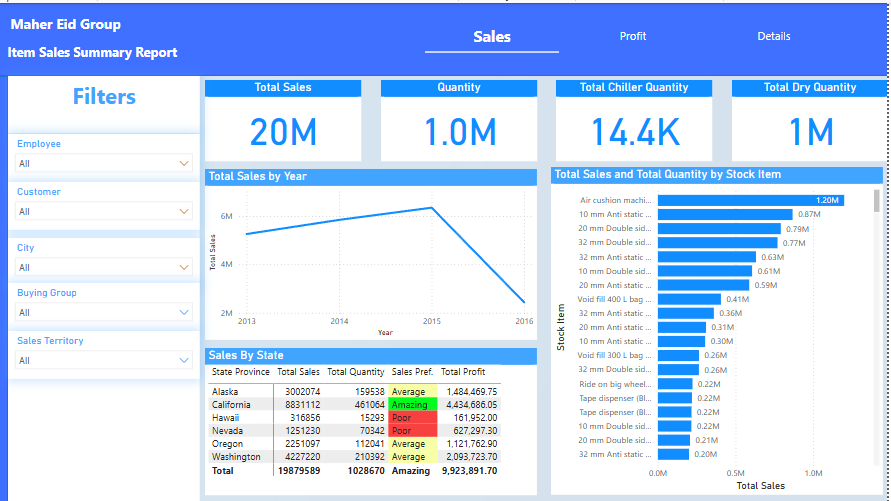

This screenshot's page, from the dashboard's own definition file:
{"tool":"powerbi","page":{"name":"Sales","canvas":[1280,720],"ordinal":0},"visuals":[{"type":"shape","box":[0,0,1280.2,105.1],"z":0},{"type":"shape","box":[0,105.1,13,614.9],"z":1000},{"type":"shape","box":[13,105.1,276.5,614.9],"z":2000},{"type":"textbox","box":[7.2,53.3,262.1,36],"z":3000},{"type":"card","title":"Total Sales","fields":{"Values":["Sum(FactSale.Total Excluding Tax)"]},"box":[296.6,110.7,224.6,116.6],"z":4000},{"type":"card","title":"Quantity","fields":{"Values":["Sum(FactSale.Quantity)"]},"box":[549.6,110.7,224.6,116.6],"z":5000},{"type":"card","title":"Total Chiller Quantity","fields":{"Values":["Sum(FactSale.Total Chiller Items)"]},"box":[802.6,110.7,224.6,116.6],"z":6000},{"type":"card","title":"Total Dry Quantity","fields":{"Values":["Sum(FactSale.Total Dry Items)"]},"box":[1055.4,110.7,224.6,116.6],"z":7000},{"type":"shape","box":[0,5.8,191.5,47.5],"z":8000},{"type":"textbox","box":[13,105.1,276.5,82.1],"z":9000},{"type":"lineChart","fields":{"Category":["DimDate.Date.Variation.Date Hierarchy.Year","DimDate.Date.Variation.Date Hierarchy.Quarter","DimDate.Date.Variation.Date Hierarchy.Month","DimDate.Date.Variation.Date Hierarchy.Day"],"Y":["Sum(FactSale.Total Excluding Tax)"]},"box":[296.6,239,478.1,246.2],"z":10000},{"type":"barChart","fields":{"Y":["Sum(FactSale.Total Excluding Tax)"],"Category":["DimStockItem.Stock Item"]},"box":[794.9,236.2,478.1,472.3],"z":11000},{"type":"pivotTable","title":"Sales By State","fields":{"Values":["Sum(FactSale.Total Excluding Tax)","Sum(FactSale.Quantity)","FactSale.Sales Pref.","Sum(FactSale.Profit)"],"Rows":["DimCity.State Province"]},"box":[296.6,496.8,478.1,211.7],"z":12000},{"type":"slicer","fields":{"Values":["DimEmployee.Employee"]},"box":[13,188.6,276.5,69.1],"z":13000},{"type":"slicer","fields":{"Values":["DimCustomer.Customer"]},"box":[13,257.8,276.5,69.1],"z":14000},{"type":"slicer","fields":{"Values":["DimCity.City"]},"box":[13,338.4,276.5,69.1],"z":15000},{"type":"slicer","fields":{"Values":["DimCustomer.Buying Group"]},"box":[13,403.2,276.5,69.1],"z":16000},{"type":"slicer","fields":{"Values":["DimCity.Sales Territory"]},"box":[13,472.3,276.5,69.1],"z":17000},{"type":"pageNavigator","box":[613.4,21.6,600.5,50.4],"z":18000}]}

Visuals, with their boxes in screenshot pixels (x1, y1, x2, y2), scaled from the page's 1280x720 canvas onto the 891x501 screenshot:
shape: 0, 0, 890, 73
shape: 0, 73, 9, 500
shape: 9, 73, 202, 500
textbox: 5, 37, 187, 62
"Total Sales" card: 206, 77, 363, 158
"Quantity" card: 383, 77, 539, 158
"Total Chiller Quantity" card: 559, 77, 715, 158
"Total Dry Quantity" card: 735, 77, 890, 158
shape: 0, 4, 133, 37
textbox: 9, 73, 202, 130
lineChart - DimDate.Date.Variation.Date Hierarchy.Year x DimDate.Date.Variation.Date Hierarchy.Quarter: 206, 166, 539, 338
barChart - Sum(FactSale.Total Excluding Tax) x DimStockItem.Stock Item: 553, 164, 886, 493
"Sales By State" pivotTable: 206, 346, 539, 493
slicer - DimEmployee.Employee: 9, 131, 202, 179
slicer - DimCustomer.Customer: 9, 179, 202, 227
slicer - DimCity.City: 9, 235, 202, 284
slicer - DimCustomer.Buying Group: 9, 281, 202, 329
slicer - DimCity.Sales Territory: 9, 329, 202, 377
pageNavigator: 427, 15, 845, 50
